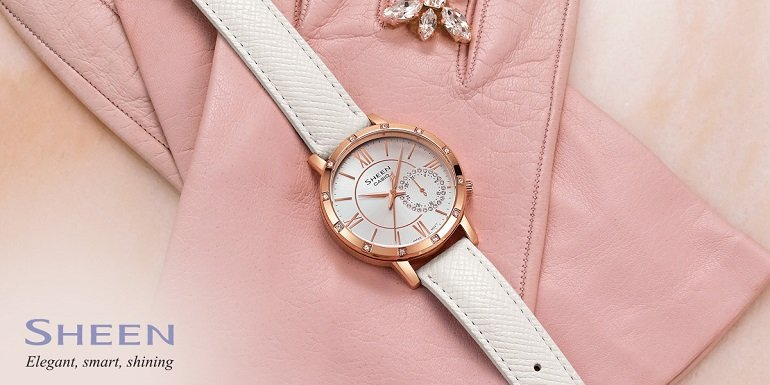clock: (317, 123, 469, 267)
